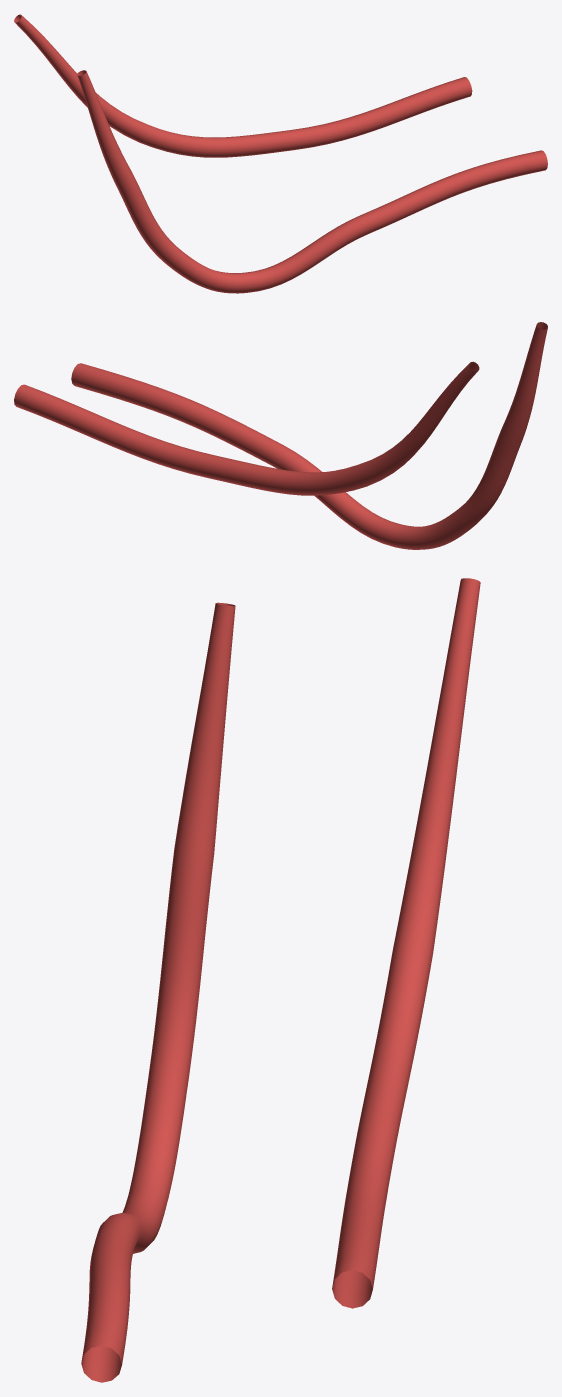
3 views of the same model, one above another, from view 1: azimuth 30°, elevation 25°; view 2: azimuth 150°, elevation 25°; view 3: azimuth 270°, elevation 25° (orthographic). The views are drawn at different scales.
Parts seen in each view (by area): view 1: 右侧基底动脉旁正中支; view 2: 右侧基底动脉旁正中支; view 3: 右侧基底动脉旁正中支.
Part boxes in pixels (x1=…): 右侧基底动脉旁正中支: x1=14, y1=14, x2=547, y2=293; 右侧基底动脉旁正中支: x1=14, y1=322, x2=547, y2=549; 右侧基底动脉旁正中支: x1=81, y1=578, x2=480, y2=1382.
Size of the model in its own units: 0.0145 by 0.00804 by 0.00575.
